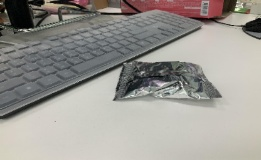br: (111, 58, 223, 105)
